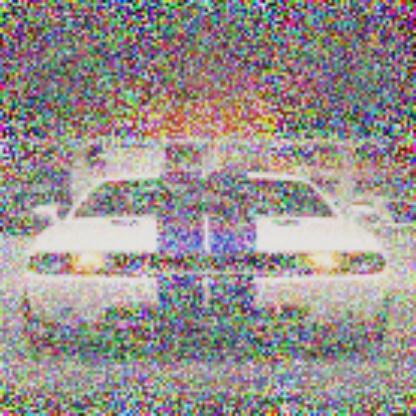Vehicle: (21, 168, 389, 357)
